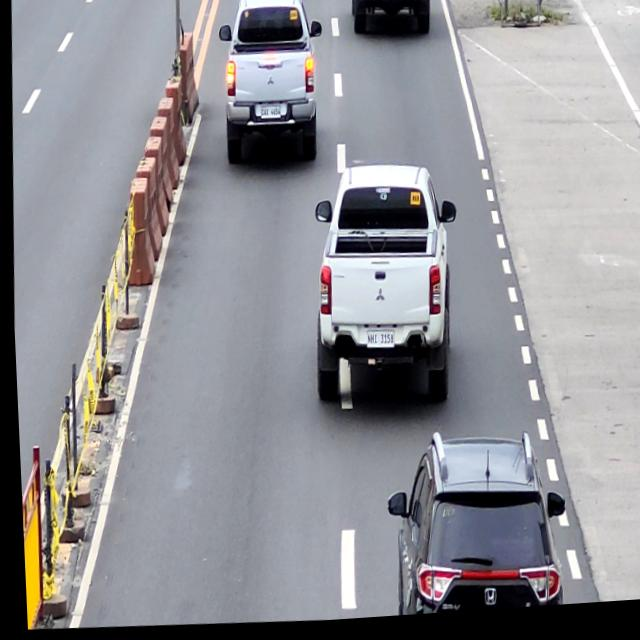Car: (303, 162, 462, 416), (376, 426, 565, 621), (212, 0, 327, 174), (348, 0, 432, 42)
License-Plate: (361, 333, 392, 356), (257, 106, 281, 125), (383, 0, 401, 4)
